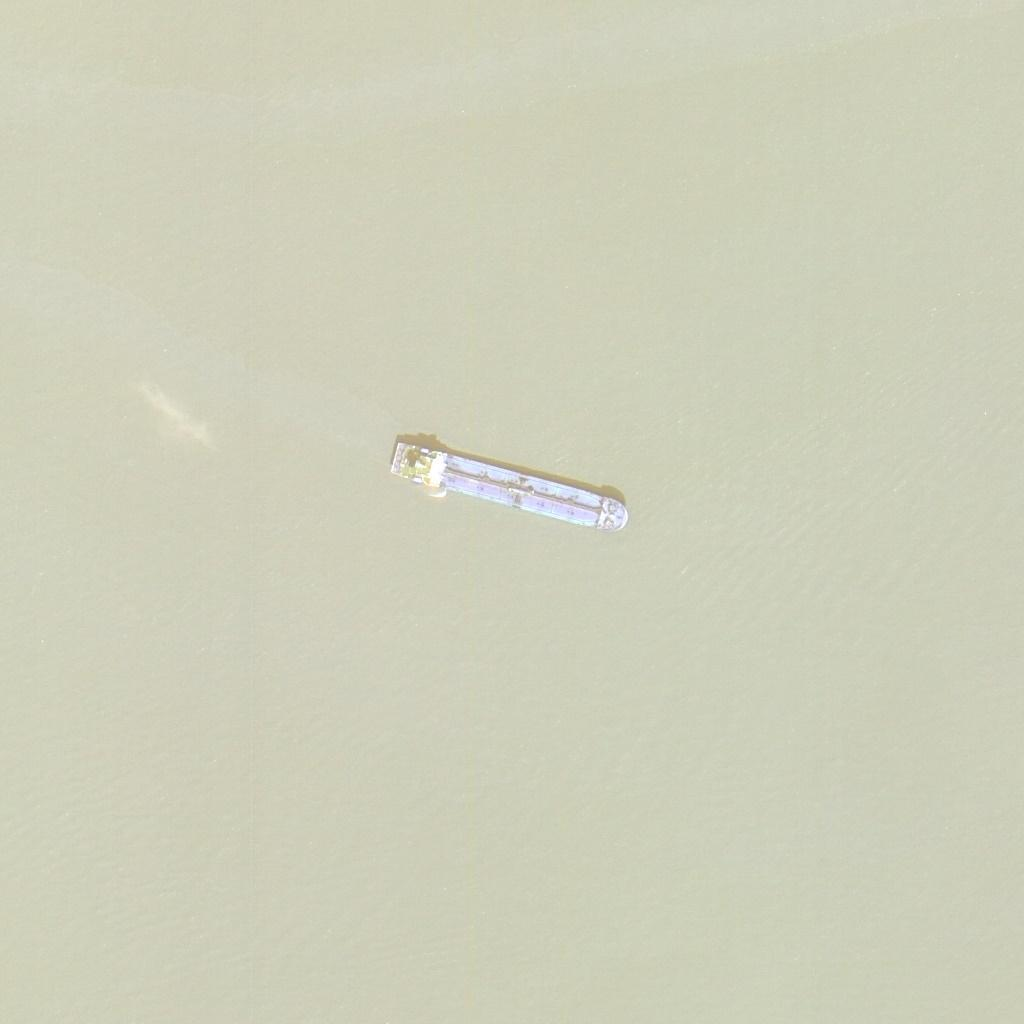ship: (492, 437, 533, 534)
